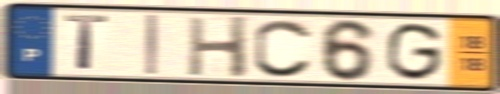6: (318, 17, 378, 83)
C: (250, 17, 315, 80)
G: (384, 20, 446, 83)
H: (185, 14, 251, 80)
I: (143, 12, 160, 77)
T: (62, 12, 112, 73)
